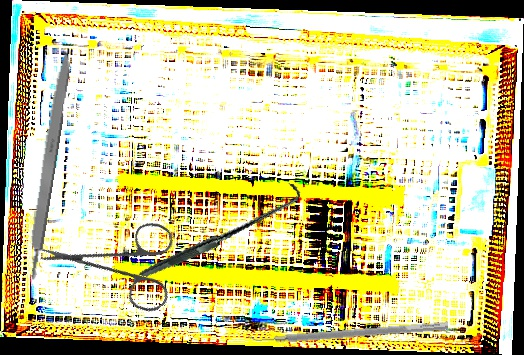Hook Surgical: (137, 153, 303, 308)
Iris Scissors: (36, 180, 204, 348)
Scalpel Handle: (21, 45, 75, 283)
Spatula Surgical: (247, 312, 449, 348)
